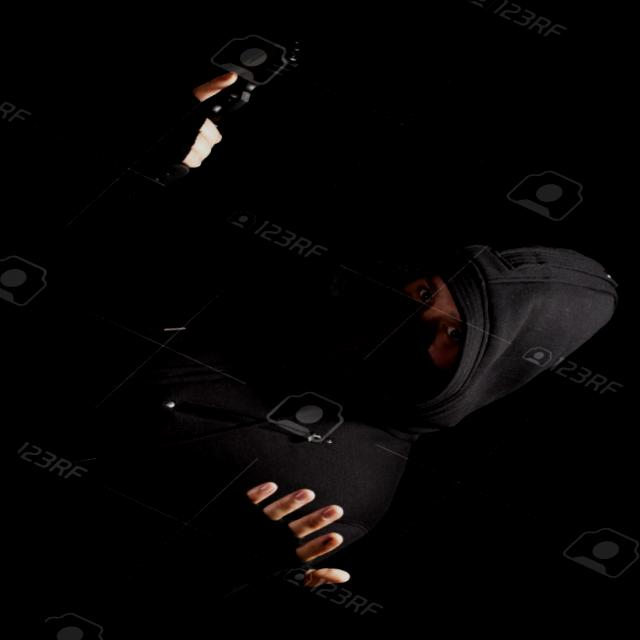handgun: (117, 31, 326, 202)
